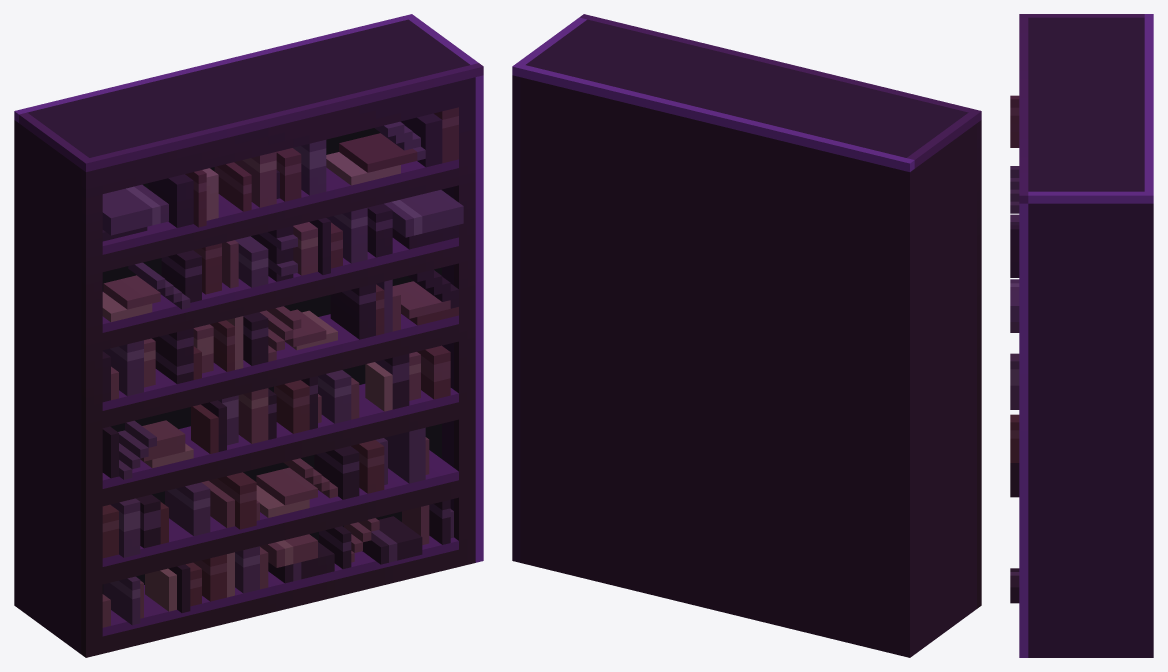
Rendered from Study-Bookshelf.obj.
3 views of the same model, side by side, from view 1: azimuth 30°, elevation 25°; view 2: azimuth 150°, elevation 25°; view 3: azimuth 270°, elevation 25° (orthographic). The views are drawn at different scales.
Parts seen in each view (by area): view 1: study - Copy (2); view 2: study - Copy (2); view 3: study - Copy (2).
Part boxes in pixels (left/top/right/bottom): study - Copy (2): left=14, top=14, right=483, bottom=657; study - Copy (2): left=512, top=14, right=981, bottom=657; study - Copy (2): left=1010, top=14, right=1153, bottom=657.
Bounding box in the file's own units: 4.8 × 5.7 × 1.6.
1 material, 1 textured.
